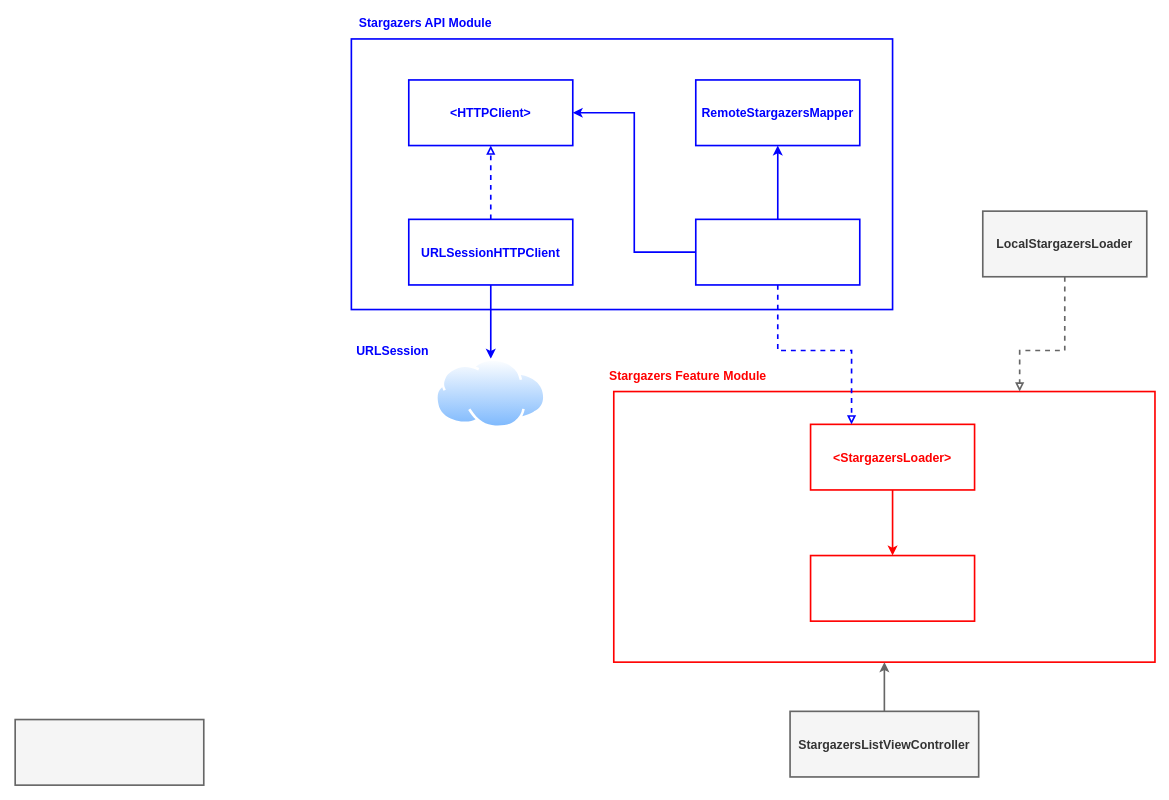
The diagram is 1169 pixels wide and 800 high, and some of its shapes have lost their labels. The centre of each missing label's shape, as x and y in pixels:
InsertRepoInfoViewController: the point at 109,752
RemoteStargazersLoader: the point at 777,251
Stargazer: the point at 892,588
